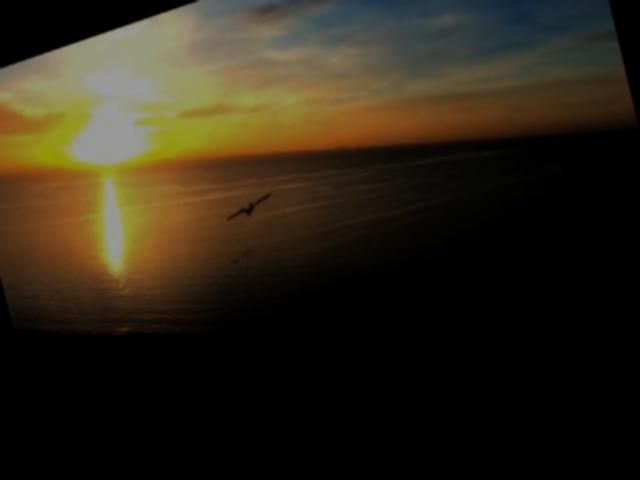uav: (217, 185, 274, 232)
